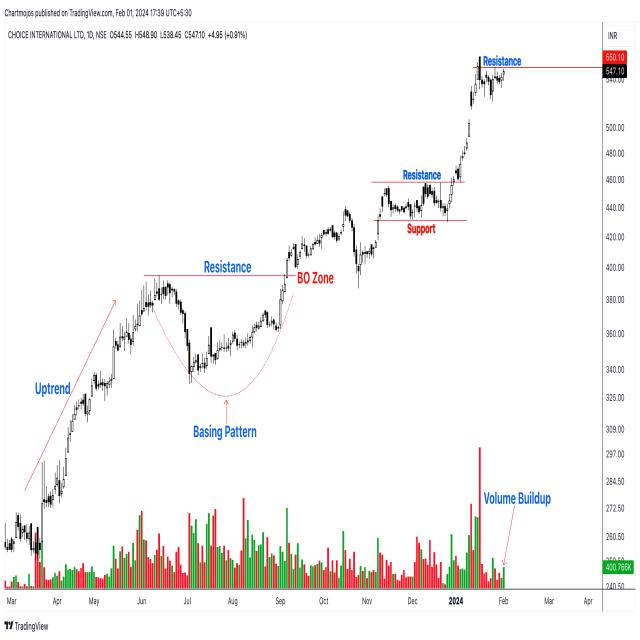rectangle: (374, 182, 469, 222)
